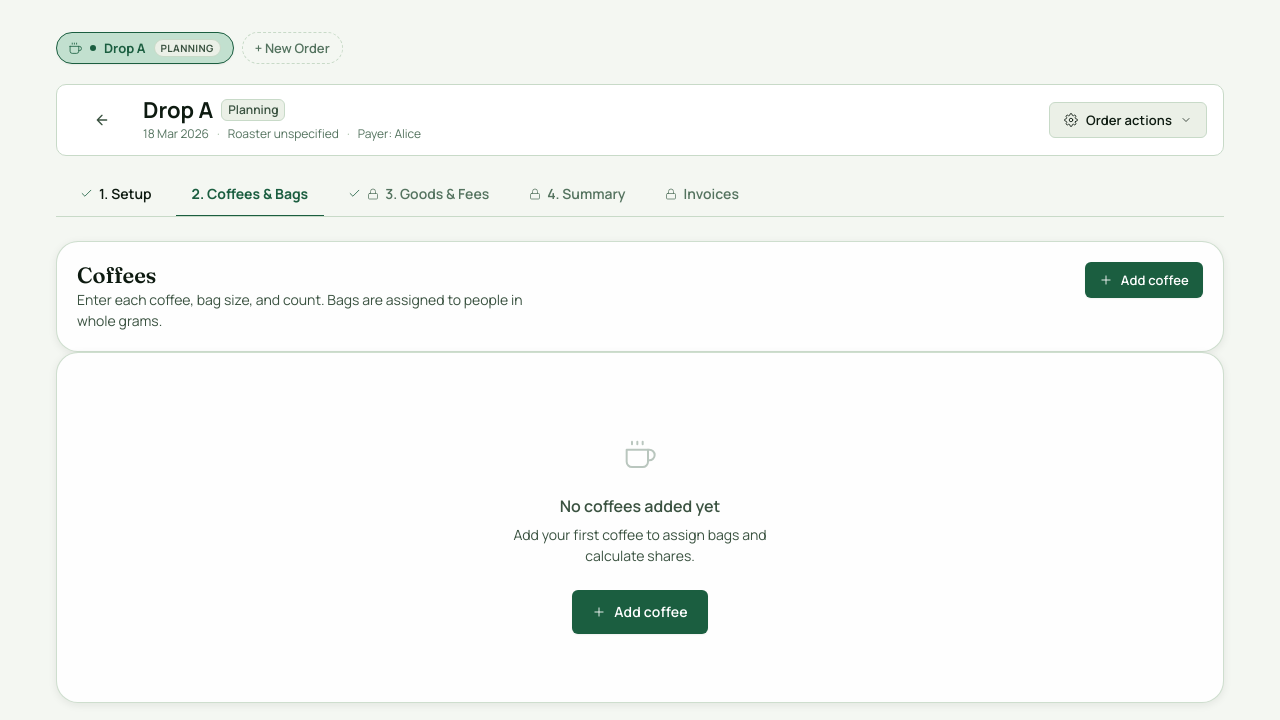
Test: OrderPage component tests › BUG-AUTH-06 & 07: owner can see status changes and archive in actions dropdown
Click the button with class "order-actions-trigger" at (1128, 120), box [1049,102,1207,138]
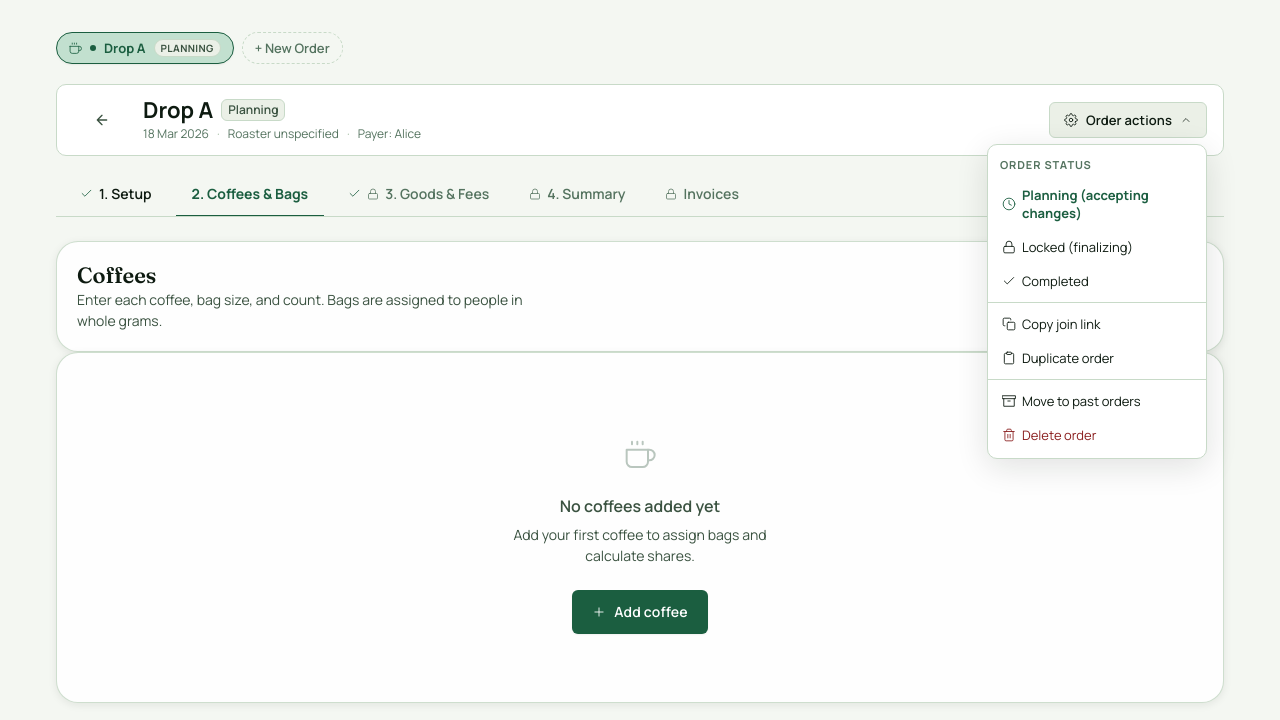
Result: the text "Planning (accepting changes)" is shown at [988,178,1206,230]
Result: the text "Locked (finalizing)" is shown at [988,230,1206,264]
